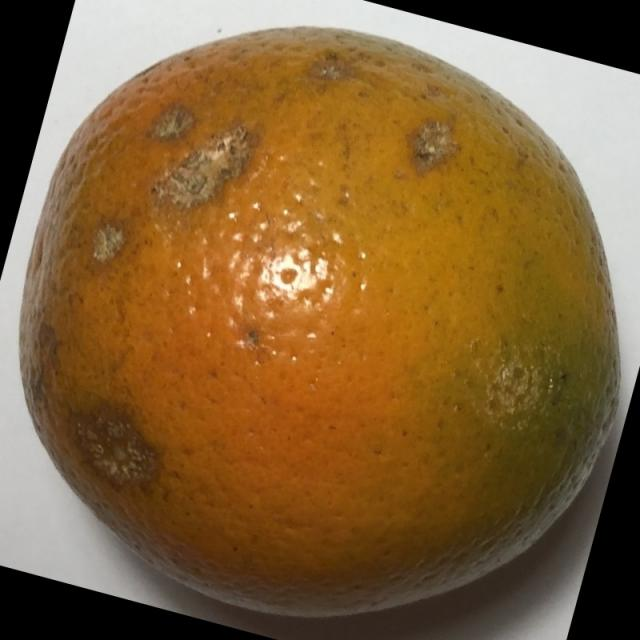canker: (14, 22, 636, 640)
